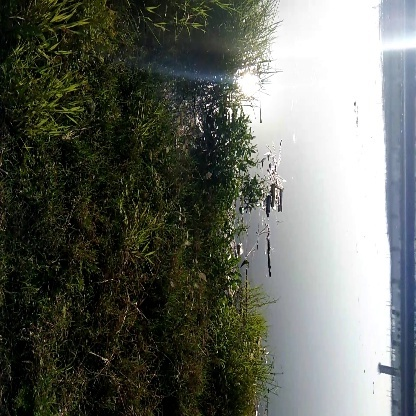grass: (14, 3, 83, 133)
